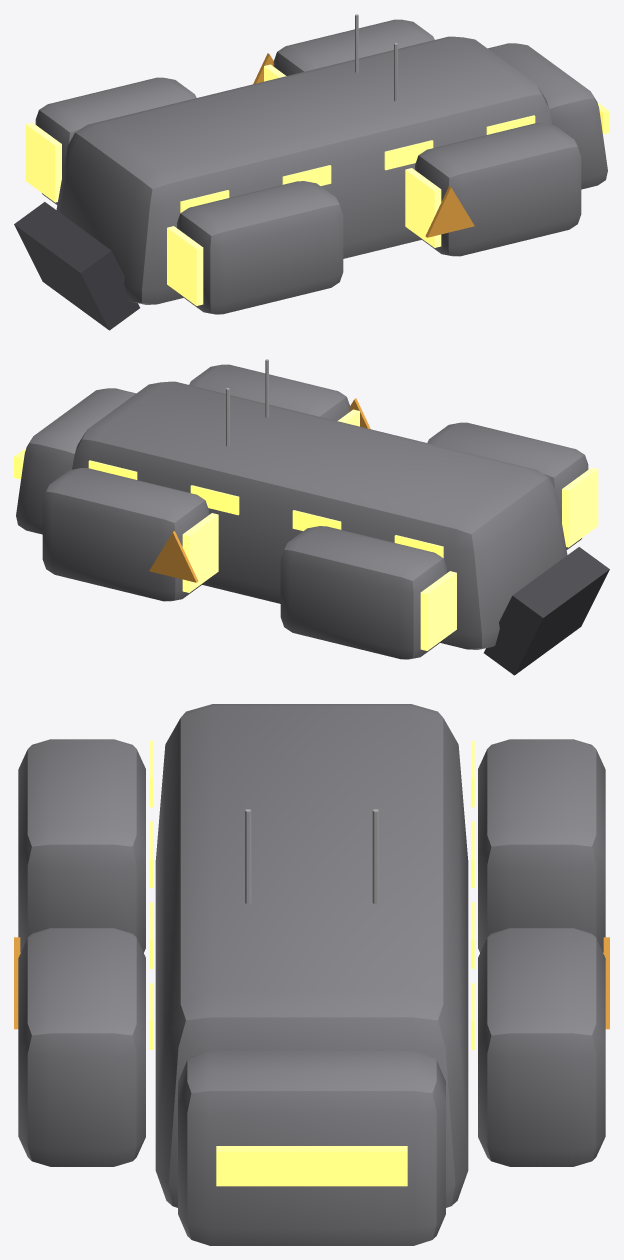
Rendered from rob_colosso.glb.
3 renders of one model, top to bottom at view 1: azimuth 30°, elevation 25°; view 2: azimuth 150°, elevation 25°; view 3: azimuth 270°, elevation 25°, orthographic. The views are drawn at different scales.
Parts seen in each view (by area): view 1: rob_colosso; view 2: rob_colosso; view 3: rob_colosso.
Boxes of the visible parts, x1=… form: rob_colosso: x1=14, y1=14, x2=609, y2=330; rob_colosso: x1=14, y1=359, x2=609, y2=675; rob_colosso: x1=14, y1=704, x2=609, y2=1245.
Size of the model in its own units: 1.57 by 0.5718 by 0.934.
